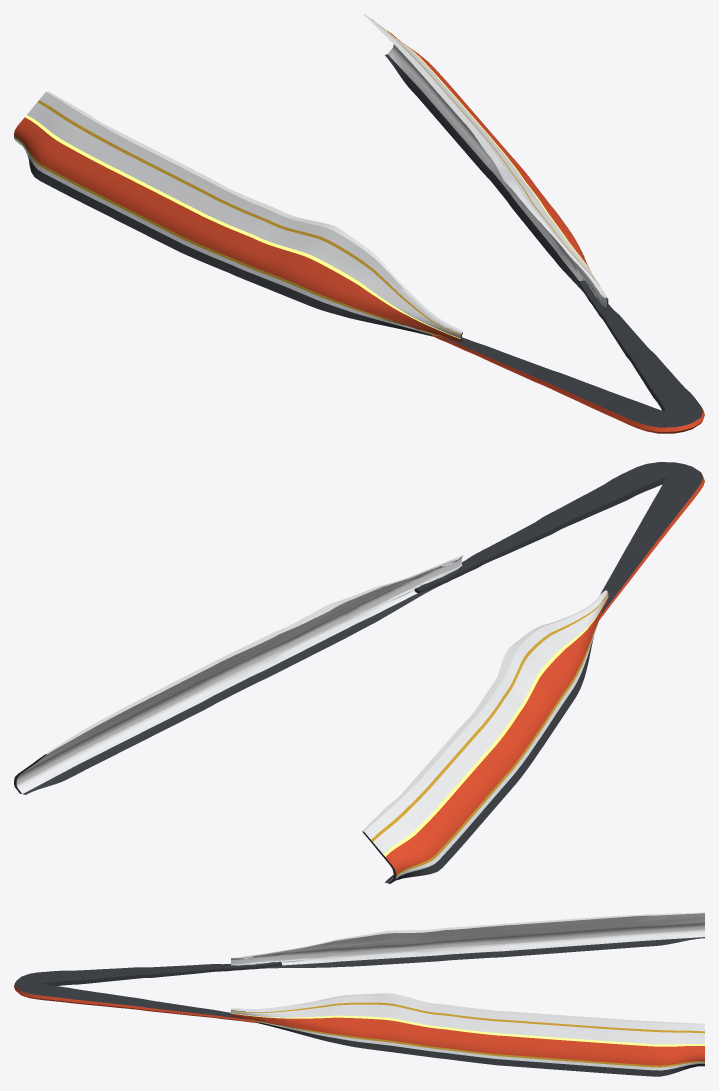
Rendered from vortex_armor_aegis.fbx.
The picture shows the model from 3 angles, top to bottom: view 1: azimuth 30°, elevation 25°; view 2: azimuth 150°, elevation 25°; view 3: azimuth 270°, elevation 25°; orthographic projection. The views are drawn at different scales.
Parts seen in each view (by area): view 1: Armor_Aegis; view 2: Armor_Aegis; view 3: Armor_Aegis.
Part boxes in pixels (x1,y1,x2,y2): Armor_Aegis: (14,14,704,433); Armor_Aegis: (14,462,704,883); Armor_Aegis: (14,912,704,1076).
Bounding box in the file's own units: 181 × 25.26 × 373.
